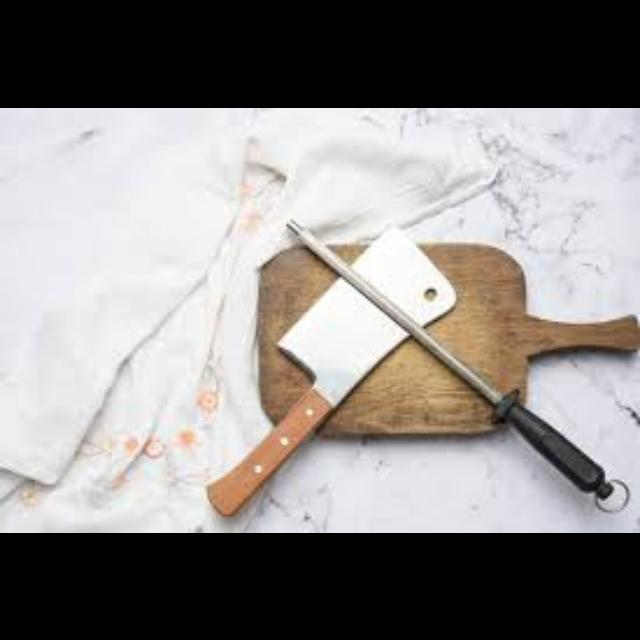Knife: (204, 216, 456, 516)
